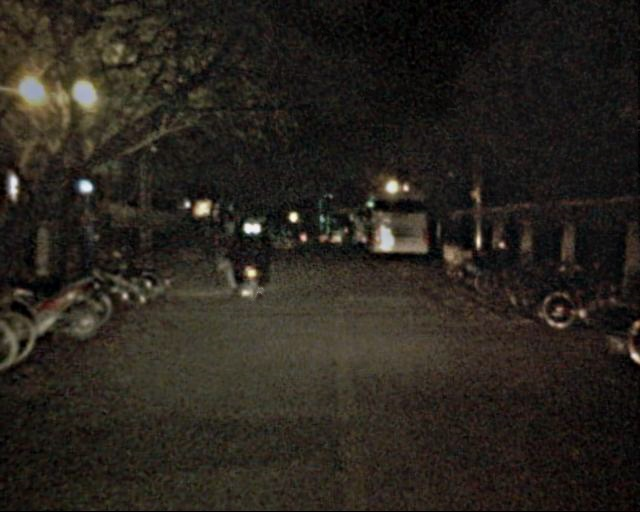person: (229, 229, 254, 290), (210, 221, 231, 273), (338, 224, 353, 247)
